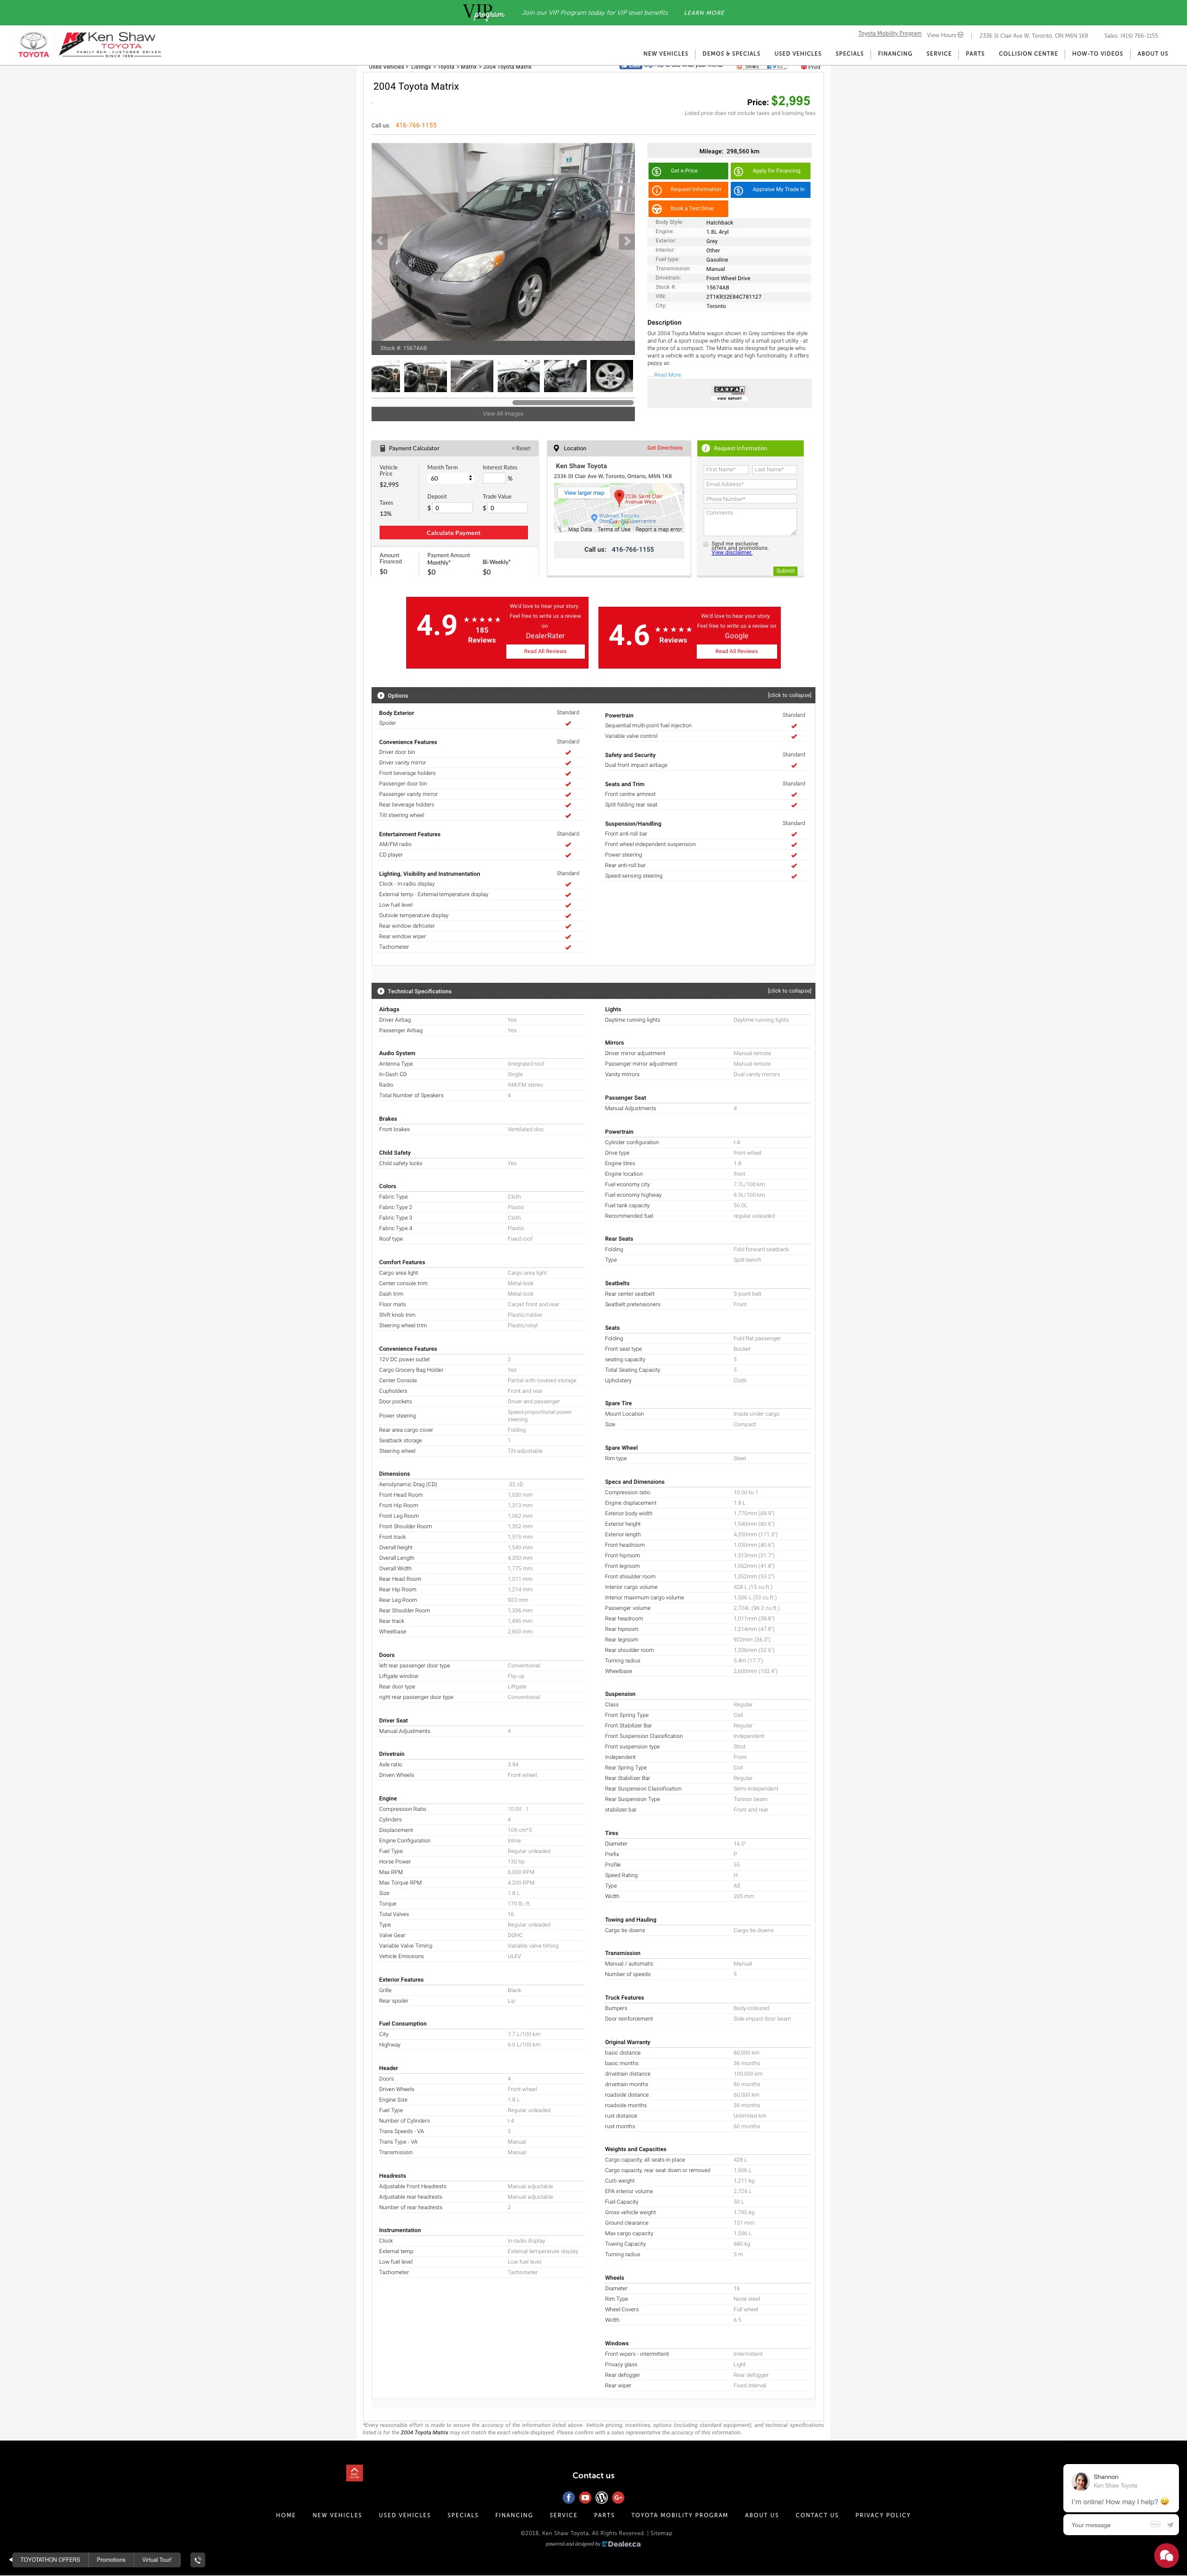car: (619, 233, 637, 251)
